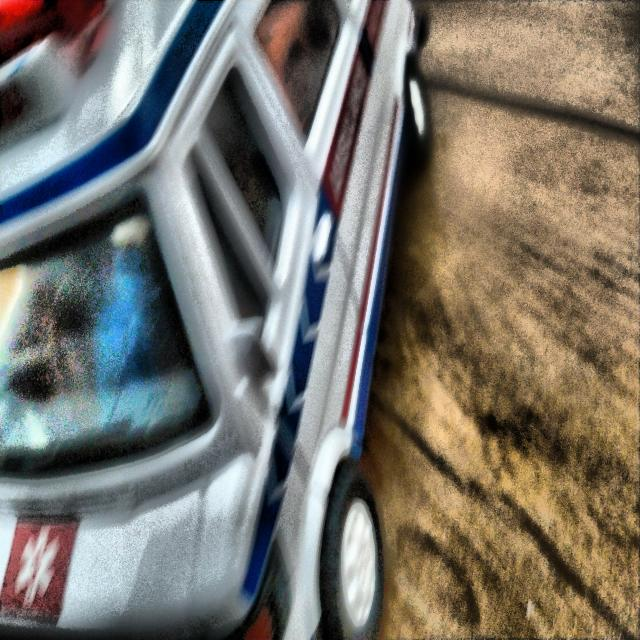Ambulance: (2, 1, 449, 640)
